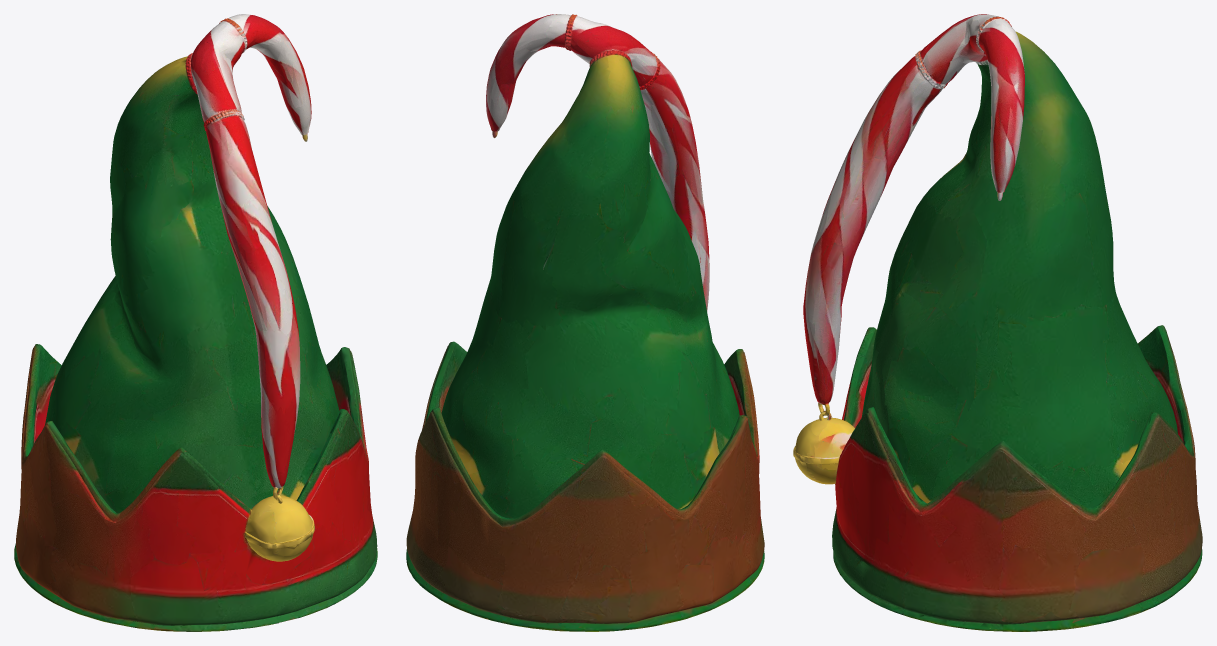
File: elf-hat.glb
3 views of the same model, side by side, from view 1: azimuth 30°, elevation 25°; view 2: azimuth 150°, elevation 25°; view 3: azimuth 270°, elevation 25° (orthographic). The views are drawn at different scales.
Bounding box in the file's own units: 3.5 × 5.71 × 3.86.
Materials: 1 (1 with a texture image).
